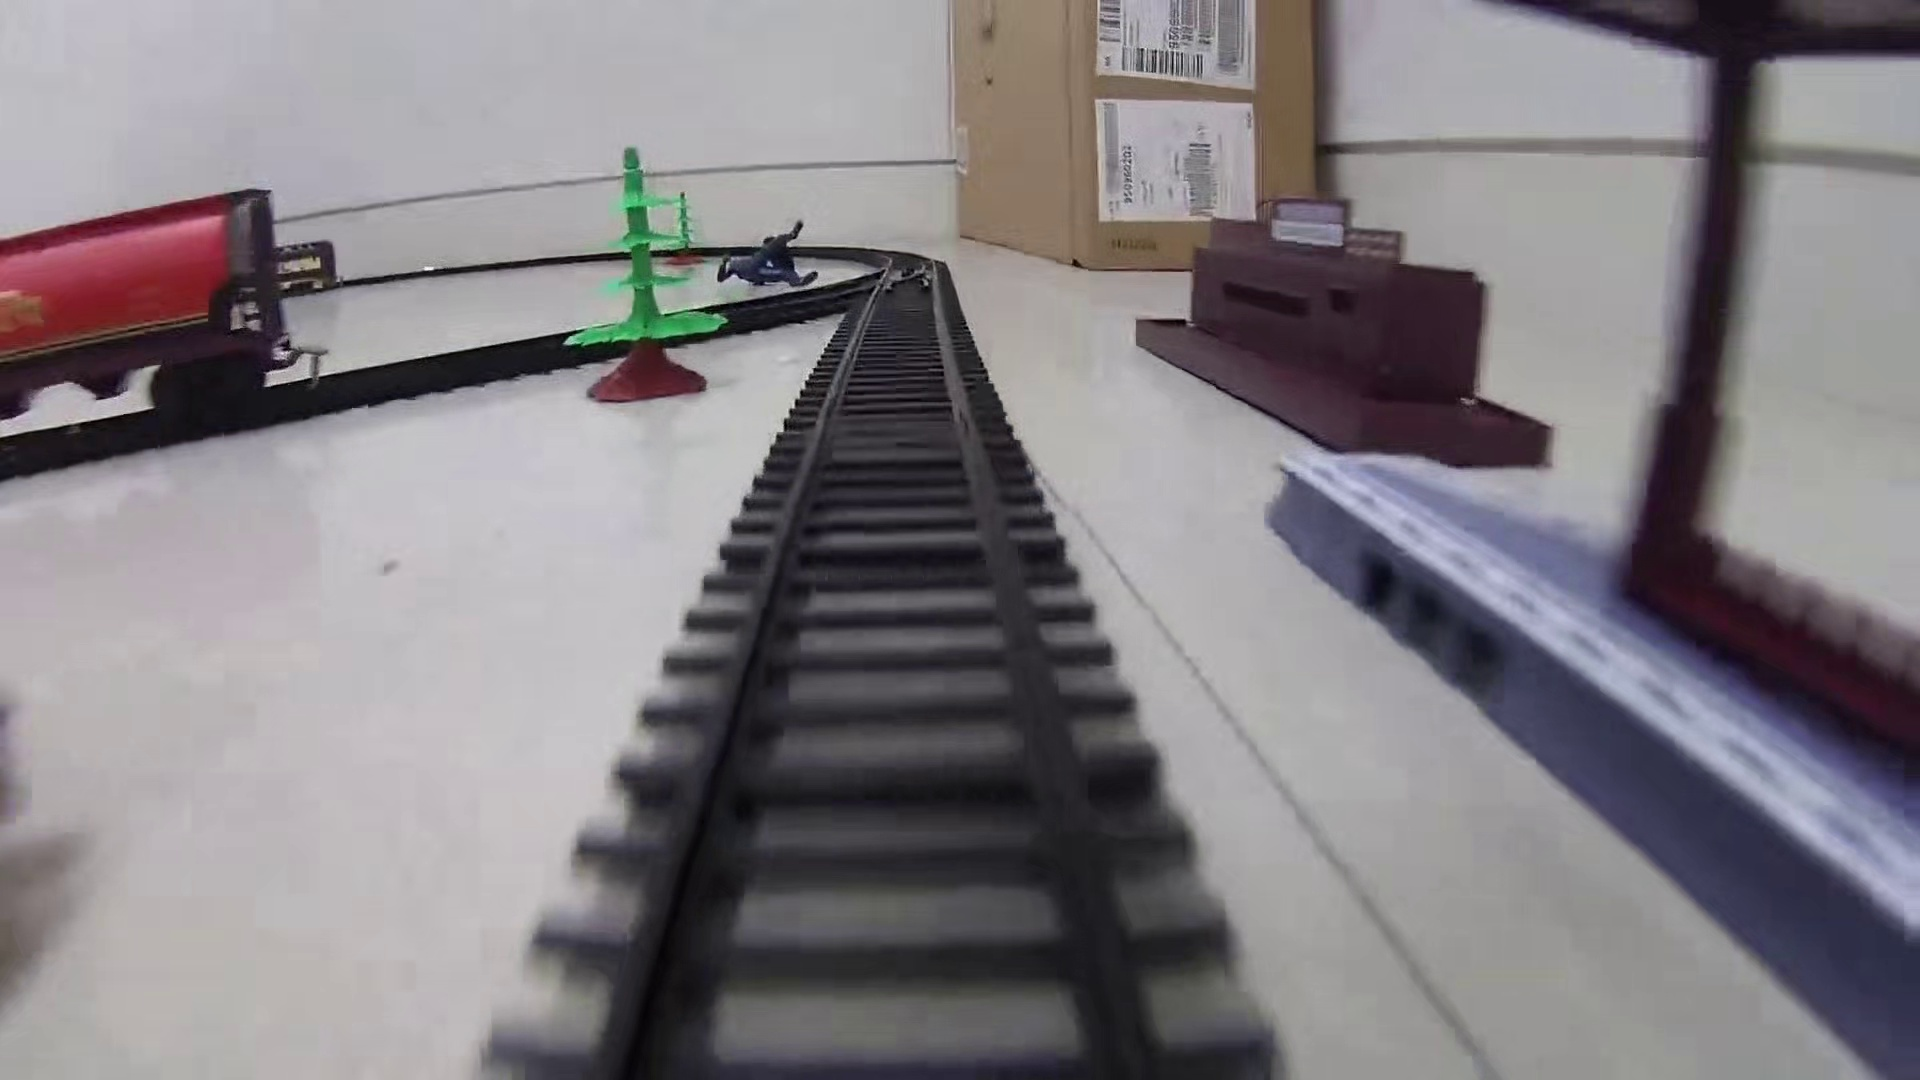people: (712, 216, 821, 290)
tree: (561, 140, 730, 403), (660, 189, 708, 267)
